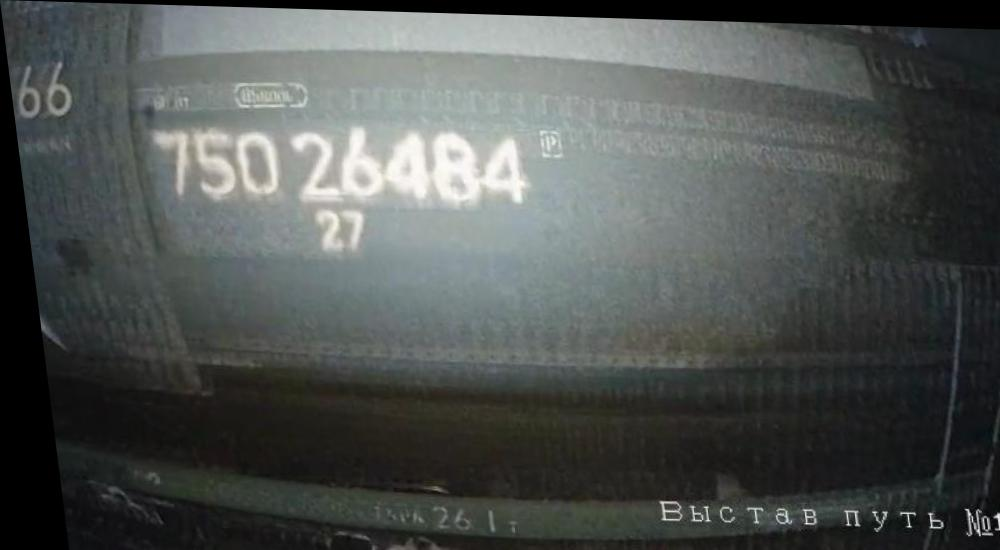Wagon-number: (142, 122, 532, 208)
